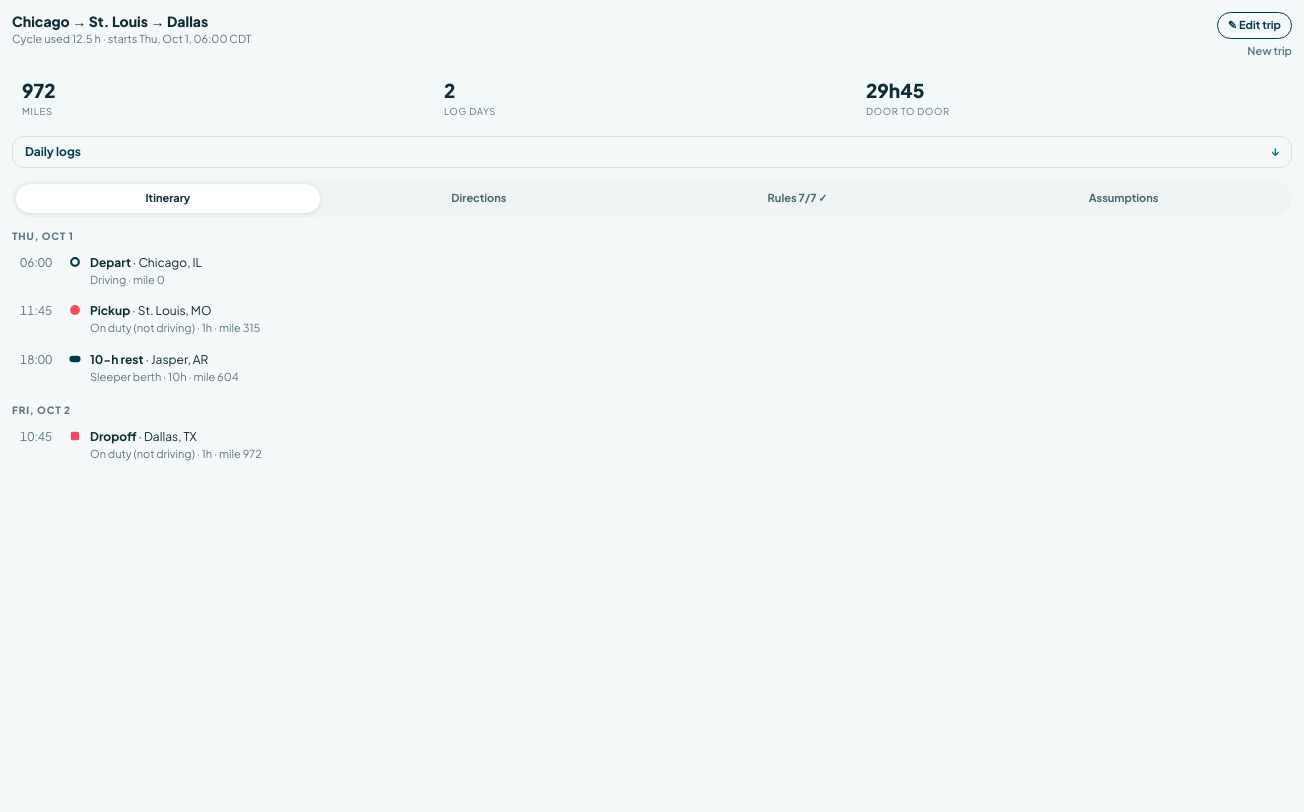
Scenario: ResultsPanel › switches between itinerary, rules and assumptions
This screenshot has width=1304, height=812.
Click the tab "Rules 7/7 ✓".
click(798, 199)  # box left=638, top=184, right=957, bottom=213
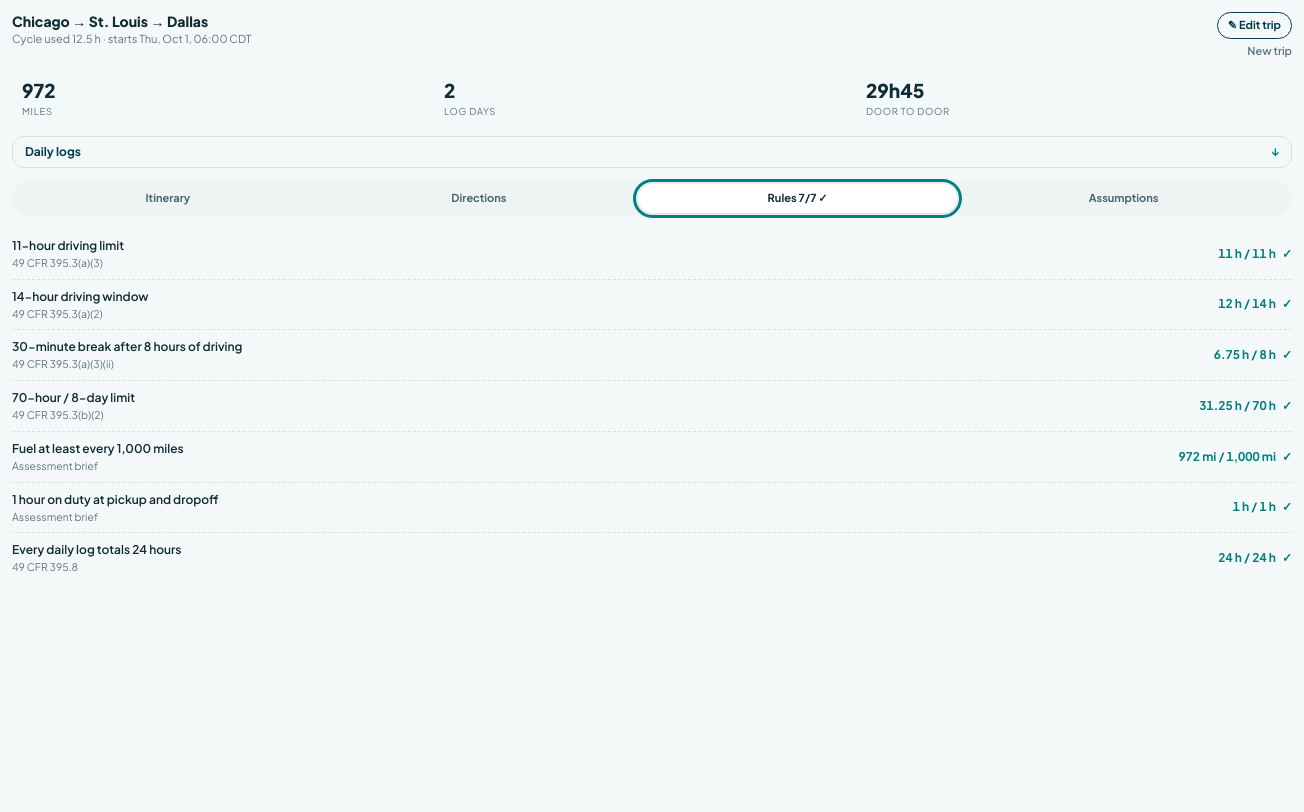
Expected: the panel named "Rules 7/7" is shown, left=12, top=229, right=1292, bottom=583
Expected: the text "14-hour driving window" is shown, left=12, top=288, right=149, bottom=304
Press Arrowright
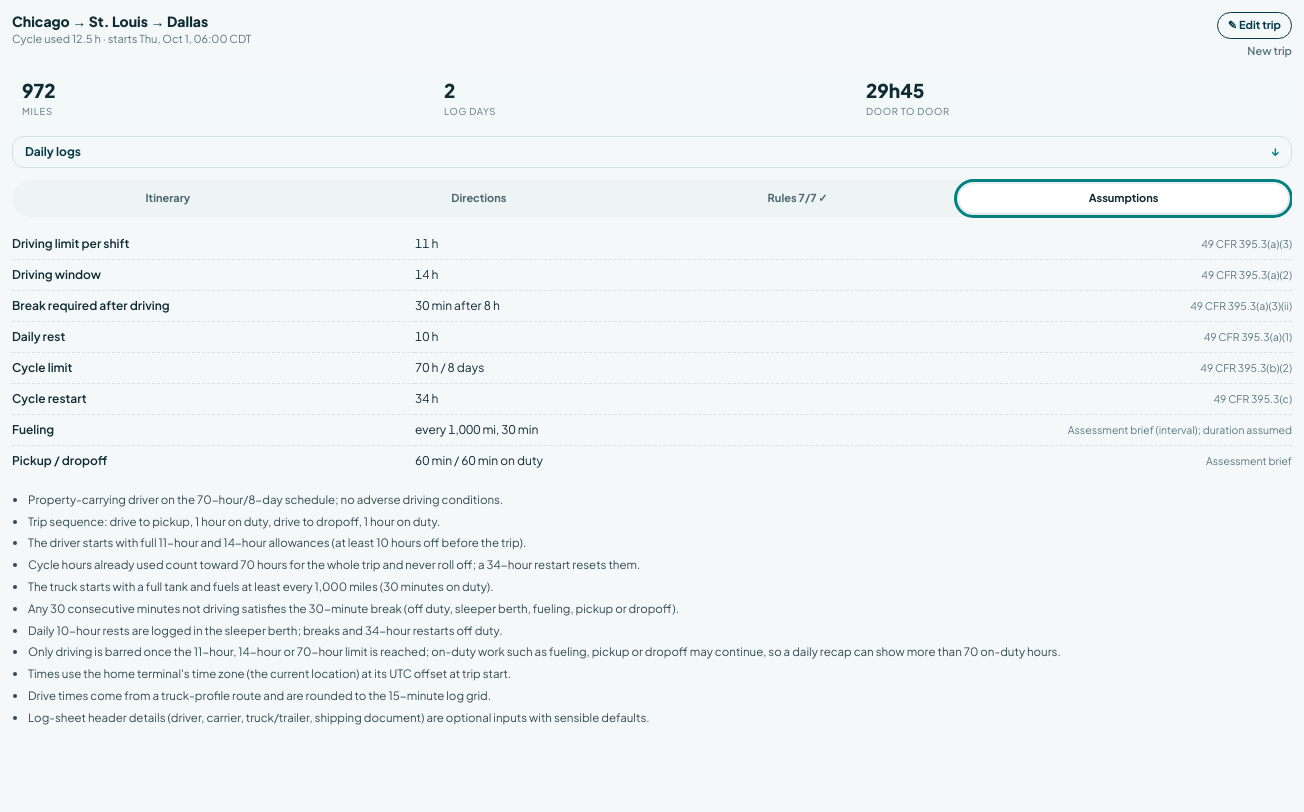
Expected: the list item "Only driving is barred" is shown, left=28, top=644, right=1061, bottom=659
